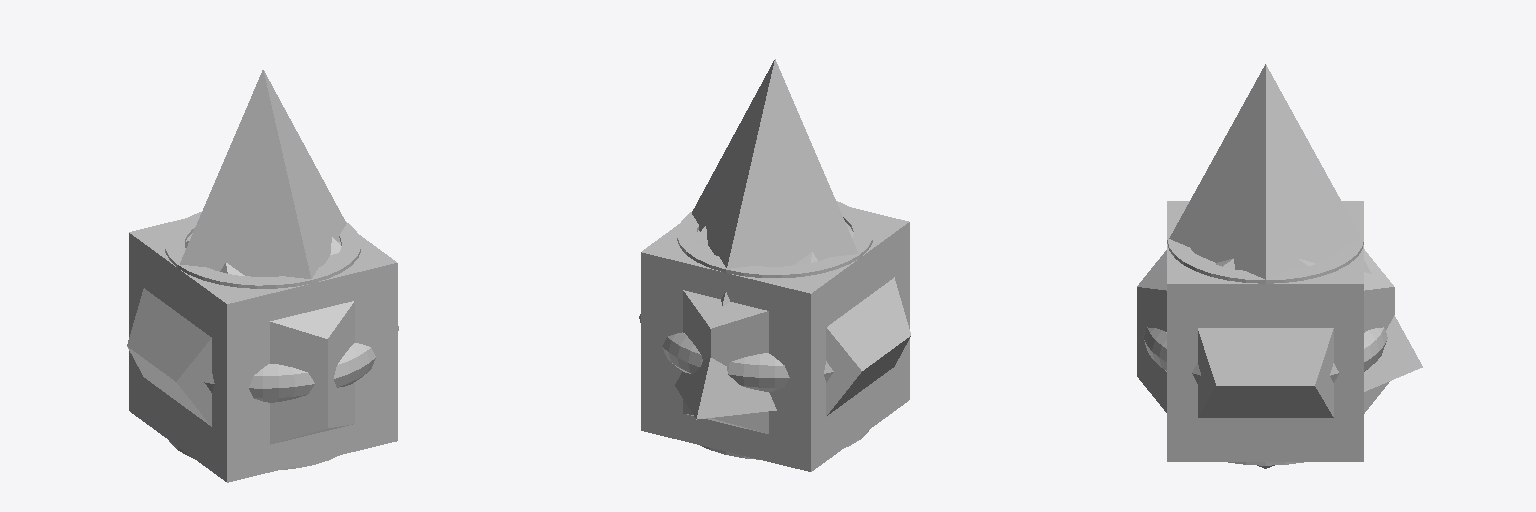
File: horizontal_cylinder.obj
The picture shows the model from 3 angles: view 1: azimuth 30°, elevation 25°; view 2: azimuth 150°, elevation 25°; view 3: azimuth 270°, elevation 25°; orthographic projection.
Visible parts, largest first — view 1: cube_Cube.001, diamond_Cone.007, dodecahedron_Cube.002, horizontal_cylinder_Cylinder.005, hollow_cylinder_Cylinder.001, torus_Torus, smooth_torus_Torus.002; view 2: cube_Cube.001, diamond_Cone.007, dodecahedron_Cube.002, hollow_cylinder_Cylinder.001, pyramid_Cone.008, torus_Torus, smooth_torus_Torus.002; view 3: cube_Cube.001, diamond_Cone.007, dodecahedron_Cube.002, hollow_cylinder_Cylinder.001, pyramid_Cone.008, torus_Torus, smooth_torus_Torus.002.
Boxes of the visible parts, x1=… form: cube_Cube.001: x1=129, y1=219, x2=397, y2=482; diamond_Cone.007: x1=180, y1=70, x2=346, y2=278; dodecahedron_Cube.002: x1=127, y1=237, x2=398, y2=444; horizontal_cylinder_Cylinder.005: x1=252, y1=286, x2=397, y2=463; hollow_cylinder_Cylinder.001: x1=165, y1=212, x2=360, y2=469; torus_Torus: x1=205, y1=343, x2=369, y2=402; smooth_torus_Torus.002: x1=204, y1=343, x2=375, y2=402; cube_Cube.001: x1=641, y1=208, x2=909, y2=471; diamond_Cone.007: x1=692, y1=59, x2=858, y2=268; dodecahedron_Cube.002: x1=639, y1=226, x2=910, y2=433; hollow_cylinder_Cylinder.001: x1=677, y1=201, x2=872, y2=459; pyramid_Cone.008: x1=675, y1=292, x2=776, y2=419; torus_Torus: x1=662, y1=332, x2=833, y2=391; smooth_torus_Torus.002: x1=669, y1=336, x2=789, y2=391; cube_Cube.001: x1=1167, y1=201, x2=1363, y2=461; diamond_Cone.007: x1=1169, y1=64, x2=1361, y2=279; dodecahedron_Cube.002: x1=1137, y1=249, x2=1394, y2=468; hollow_cylinder_Cylinder.001: x1=1167, y1=219, x2=1363, y2=465; pyramid_Cone.008: x1=1364, y1=261, x2=1422, y2=391; torus_Torus: x1=1143, y1=327, x2=1386, y2=380; smooth_torus_Torus.002: x1=1157, y1=327, x2=1387, y2=383.
Bounding box in the file's own units: 2.62 × 4.31 × 2.91.